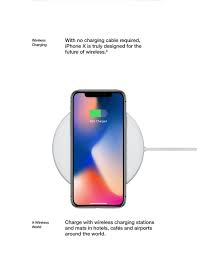iphone: (69, 88, 127, 209)
iphone10: (69, 88, 127, 209)
